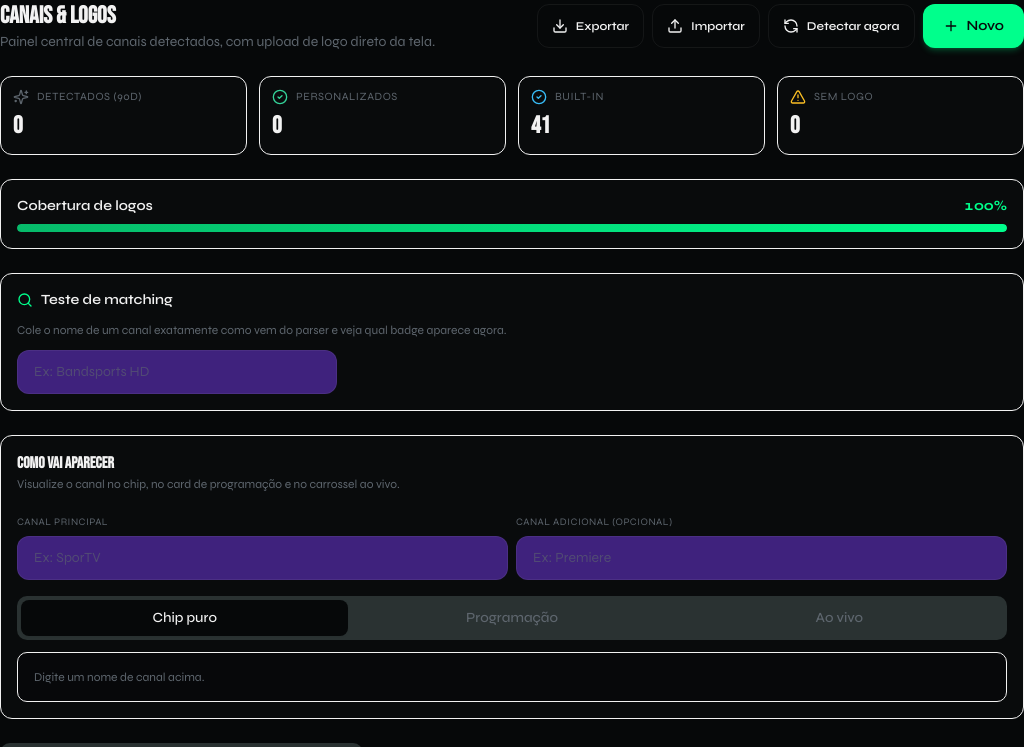
AdminCanaisLogos › opens new mapping modal when clicking Novo
Click the button "Novo".
click(973, 26)  # box [922,4,1023,48]
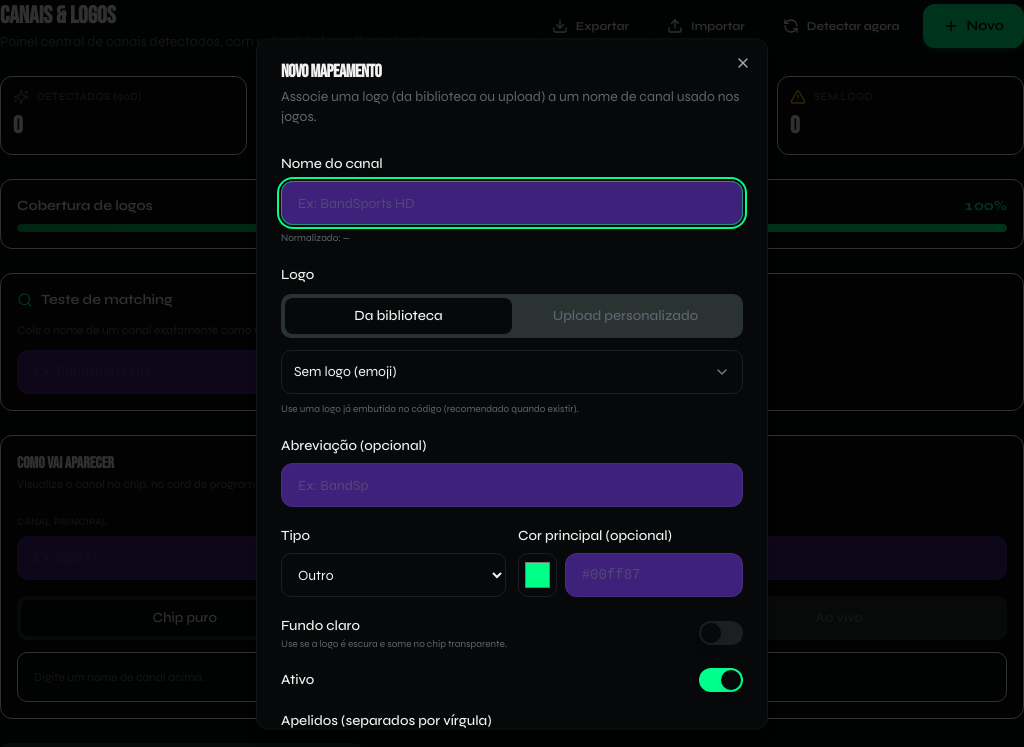
Expected: the heading "Novo mapeamento" is shown, [281,61,381,82]
Expected: the field labelled "Nome do canal" is shown, [281,181,743,225]
